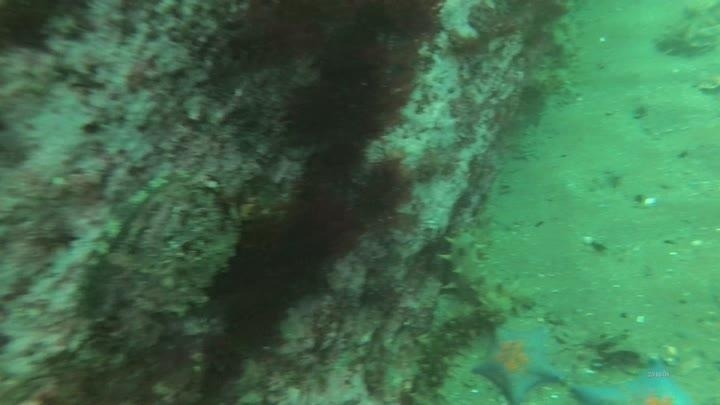echinus: (280, 68, 389, 152)
holothurian: (413, 302, 506, 399), (440, 234, 530, 306), (651, 4, 720, 61)
starfish: (468, 321, 567, 404), (568, 356, 701, 403)
